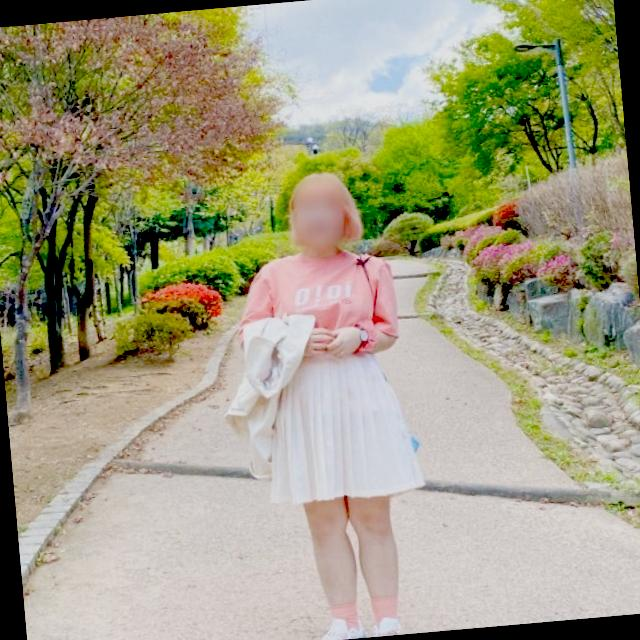mtm: (232, 241, 402, 367)
skirt: (261, 343, 432, 512)
